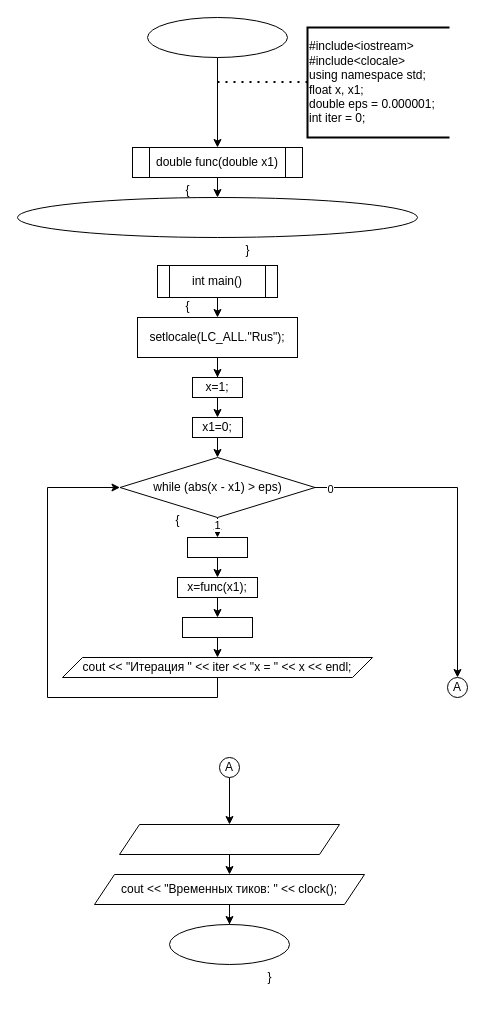
Image size: 485x1010. Some labels were removed from this diagram. The shapes that lost their labels are listed below. From the top down, each one's box as (x1, y1, x2, y2) in pixels, then its label:
(146, 16, 288, 58): Начало
(16, 196, 418, 238): return ((acos(x1) - (pow(1 - (0.3 * (pow(x1, 3))), 0.5))) + x1);
(186, 536, 248, 558): x1=x;
(182, 616, 252, 638): iter++;
(118, 824, 340, 854): cout << "Корень: " << x << endl;
(168, 924, 290, 964): return 0;
